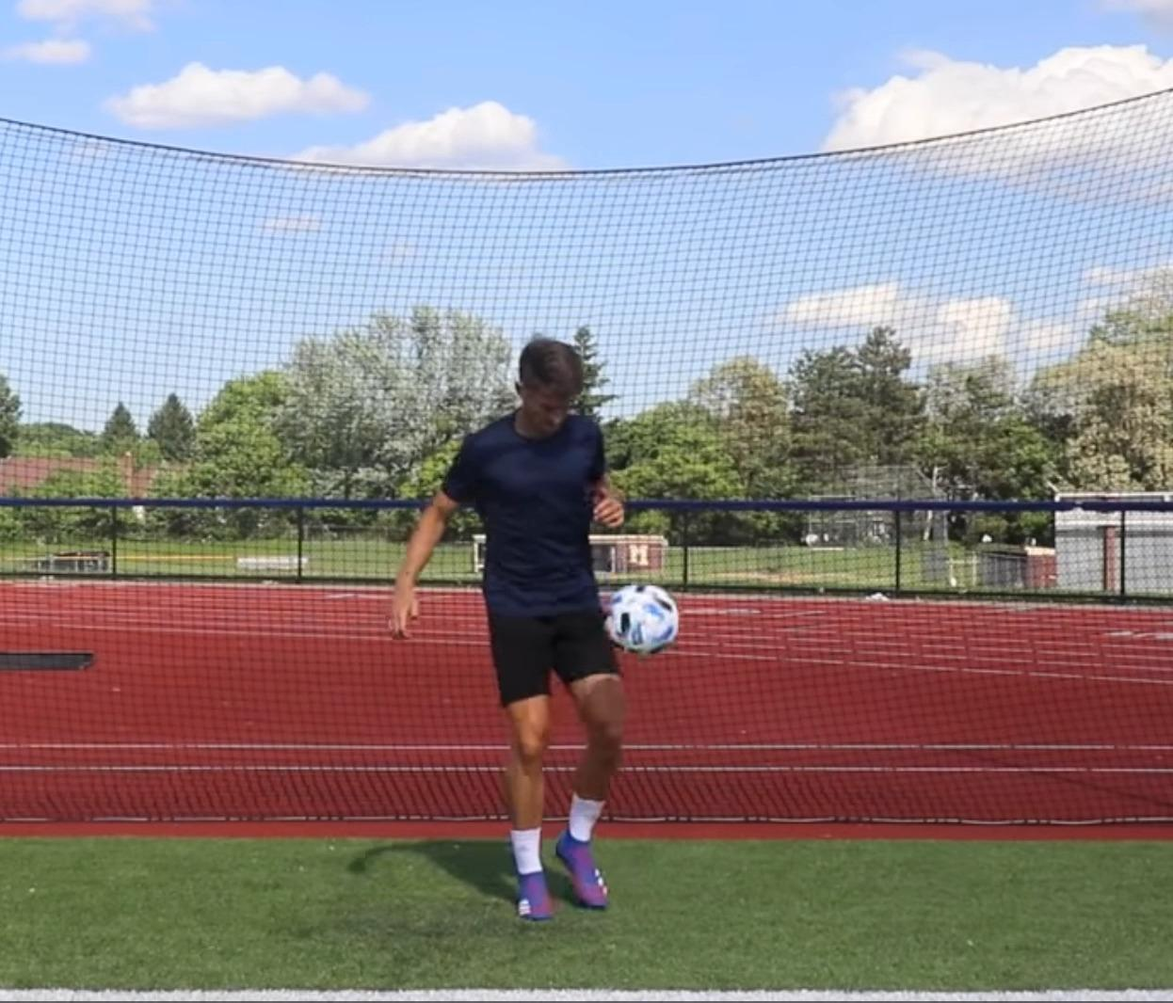ball: (605, 582, 678, 653)
foot: (552, 830, 611, 910), (515, 864, 554, 924)
person: (389, 339, 631, 922)
